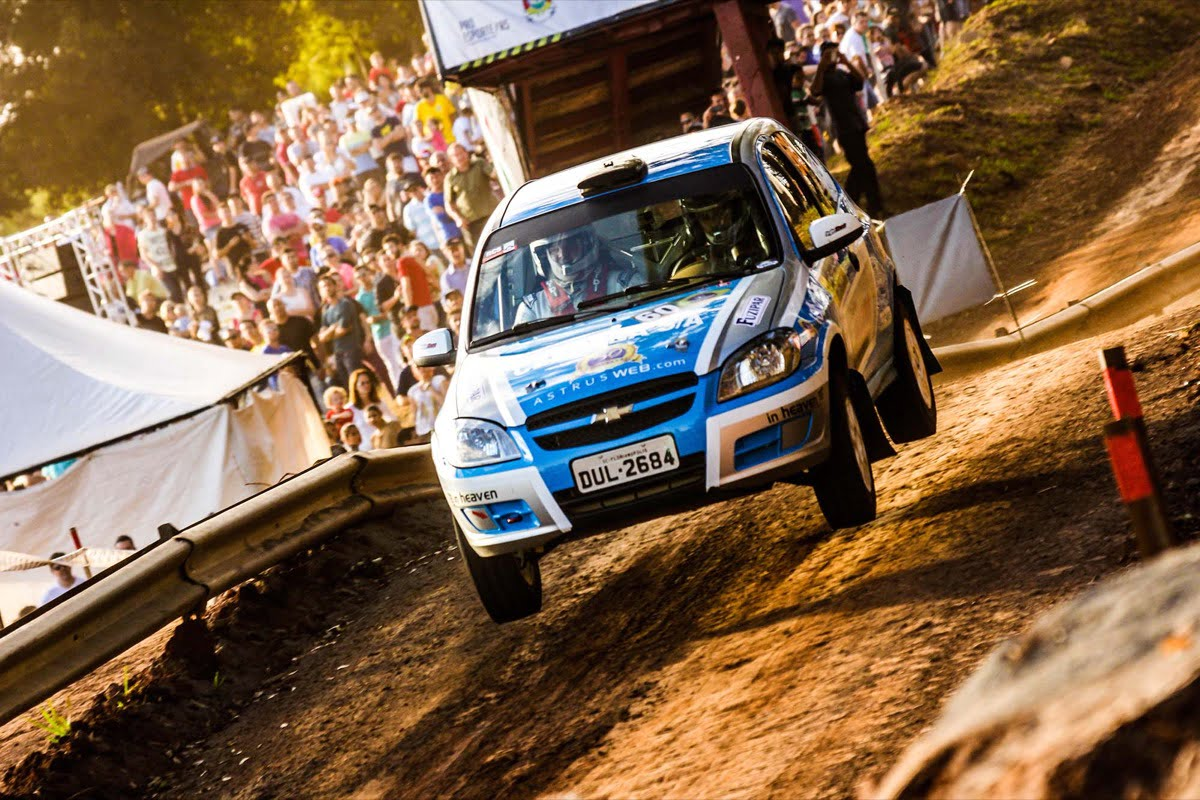car: (364, 204, 874, 654)
car_plate: (566, 461, 677, 499)
